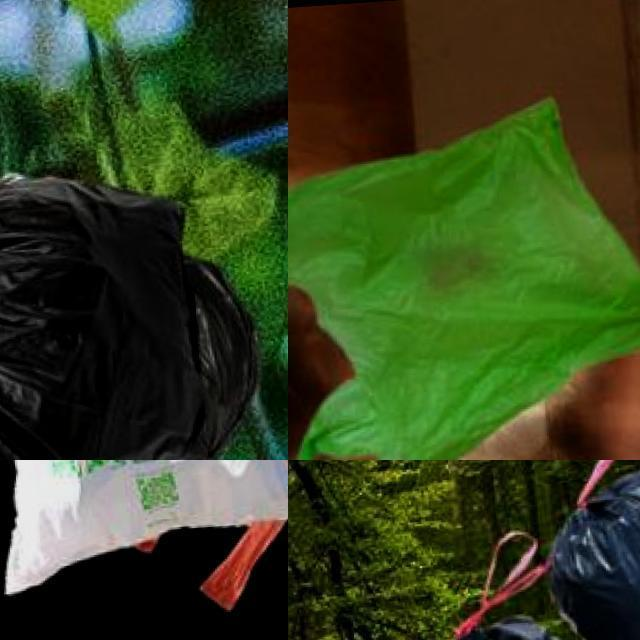waste: (288, 89, 640, 460), (0, 162, 263, 460), (0, 460, 288, 601), (547, 460, 640, 640)
